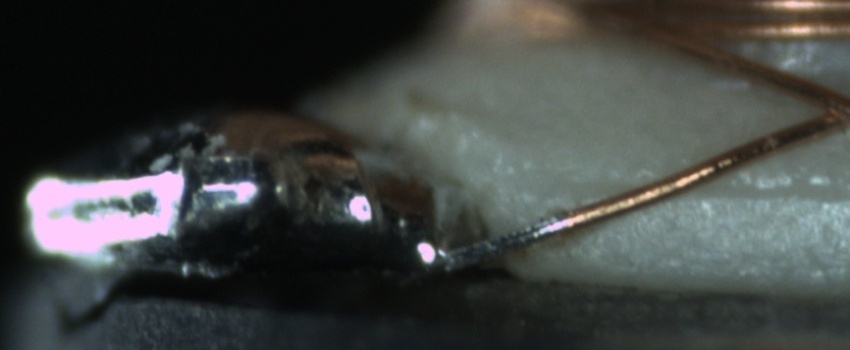CL: (796, 81, 850, 139)
DL: (548, 159, 849, 221)
TS: (413, 213, 567, 270)
